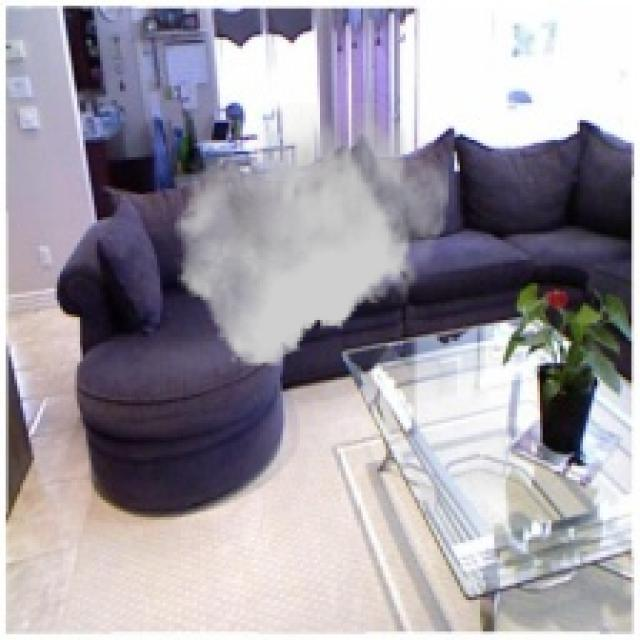smoke: (174, 103, 449, 366)
